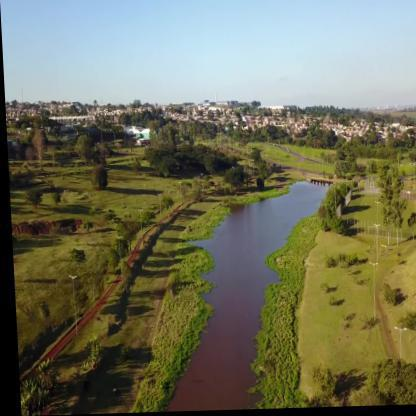agua: (195, 213, 283, 411)
